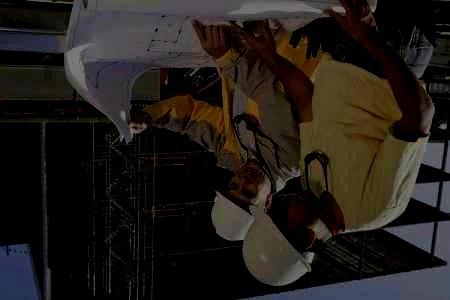helmet: (241, 189, 338, 287), (211, 160, 271, 241)
